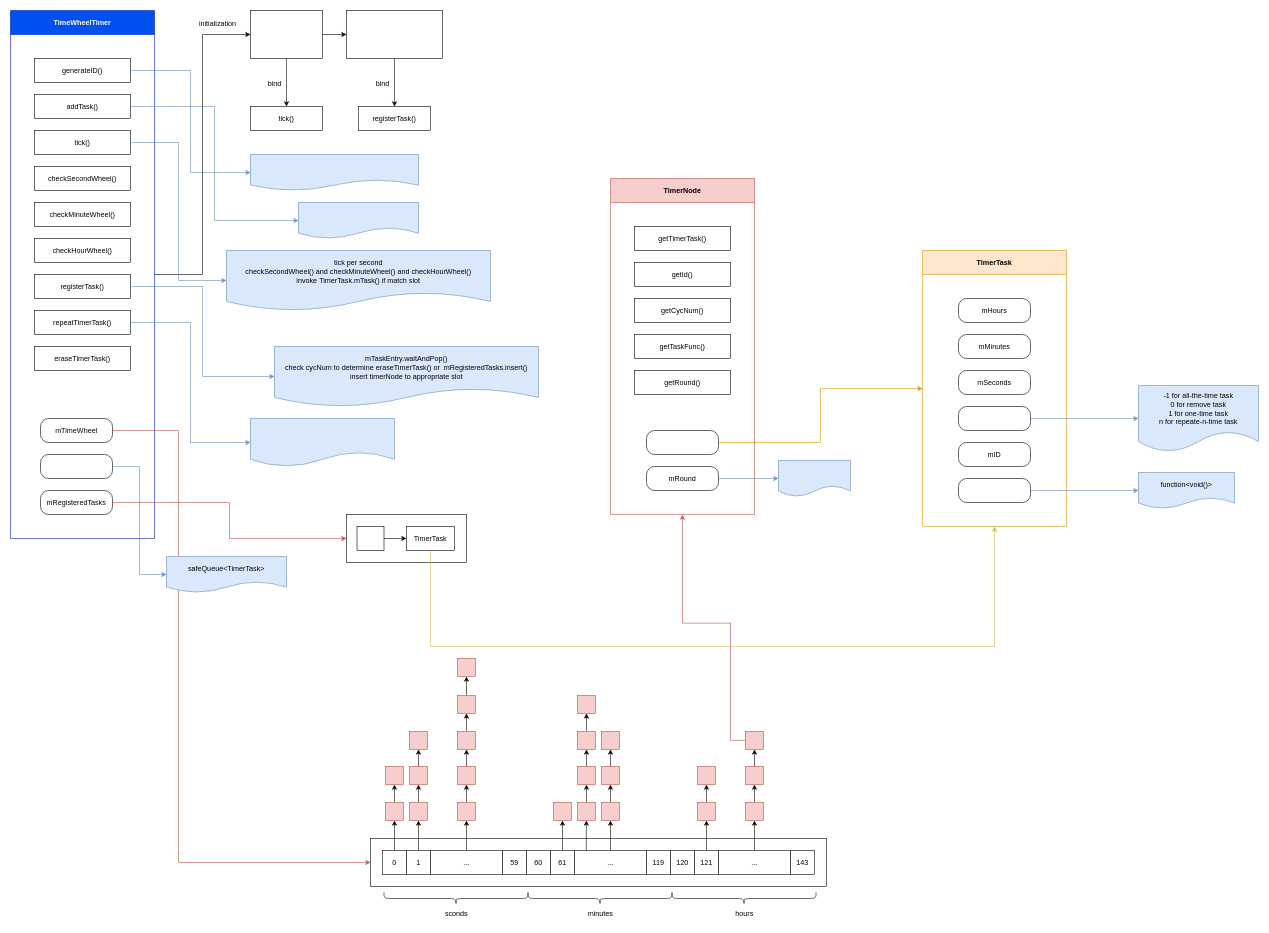
This 1269x933 diagram has some shape labels left out. The centre of each missing label's shape, as x and y in pixels:
id: the point at 370,538
if cycNum > 0 || task is perpetual invoked in checkSecondWheel(): the point at 322,442
mCycleNumber: the point at 994,418
mGetAndRegisterThread: the point at 394,34
mHours/24: the point at 814,478
mTask: the point at 994,490
mTaskEntry: the point at 76,466
mTaskEntry.push(): the point at 358,220
mThread: the point at 286,34
mTimerTask: the point at 682,442
seconds since epoch + ascend per second: the point at 334,172
